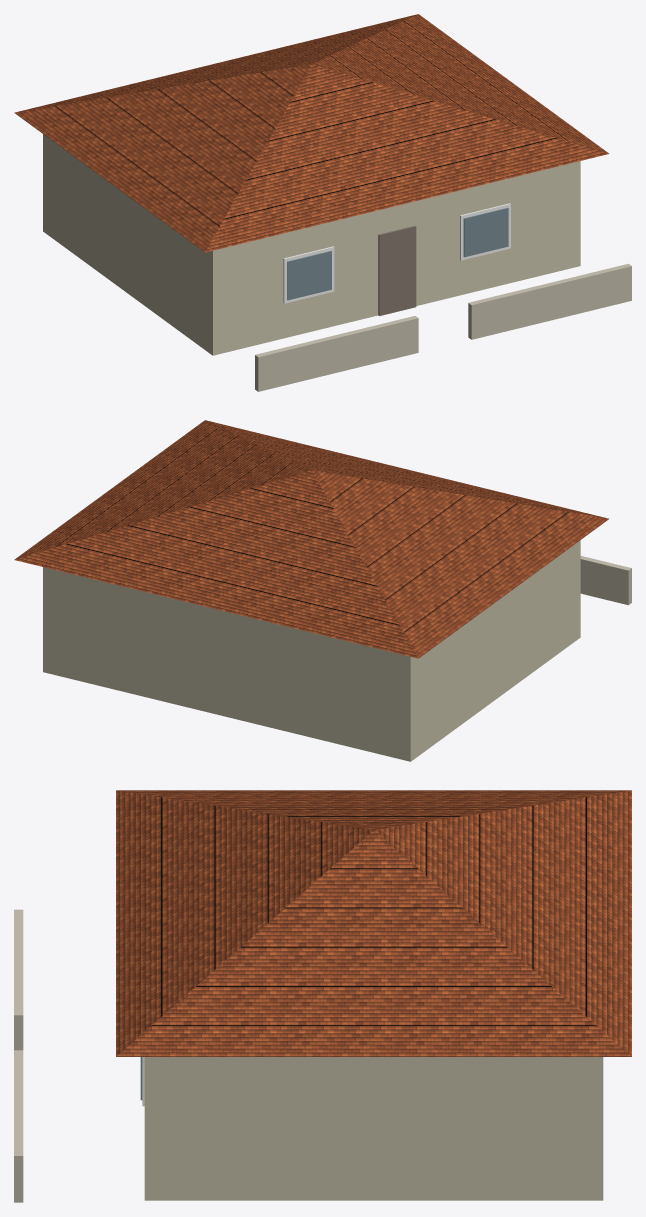
File: casa_vizinha_17.glb
3 views of the same model, one above another, from view 1: azimuth 30°, elevation 25°; view 2: azimuth 150°, elevation 25°; view 3: azimuth 270°, elevation 25° (orthographic). The views are drawn at different scales.
Parts seen in each view (by area): view 1: Malha_0; view 2: Malha_0; view 3: Malha_0.
Part boxes in pixels (<box>): Malha_0: <box>14,14,631,391</box>; Malha_0: <box>14,420,631,761</box>; Malha_0: <box>14,790,631,1202</box>.
Bounding box in the file's own units: 11 × 4.8 × 10.78.
Materials: 3 (1 with a texture image).
